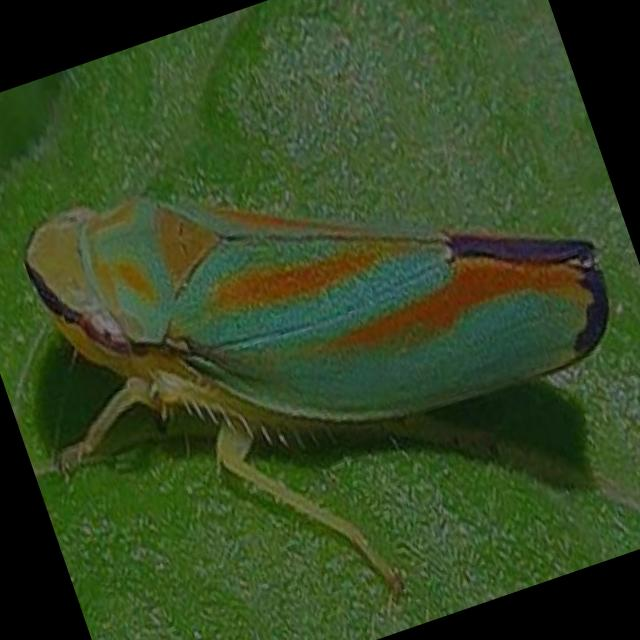green-leafhopper: (14, 68, 626, 512)
